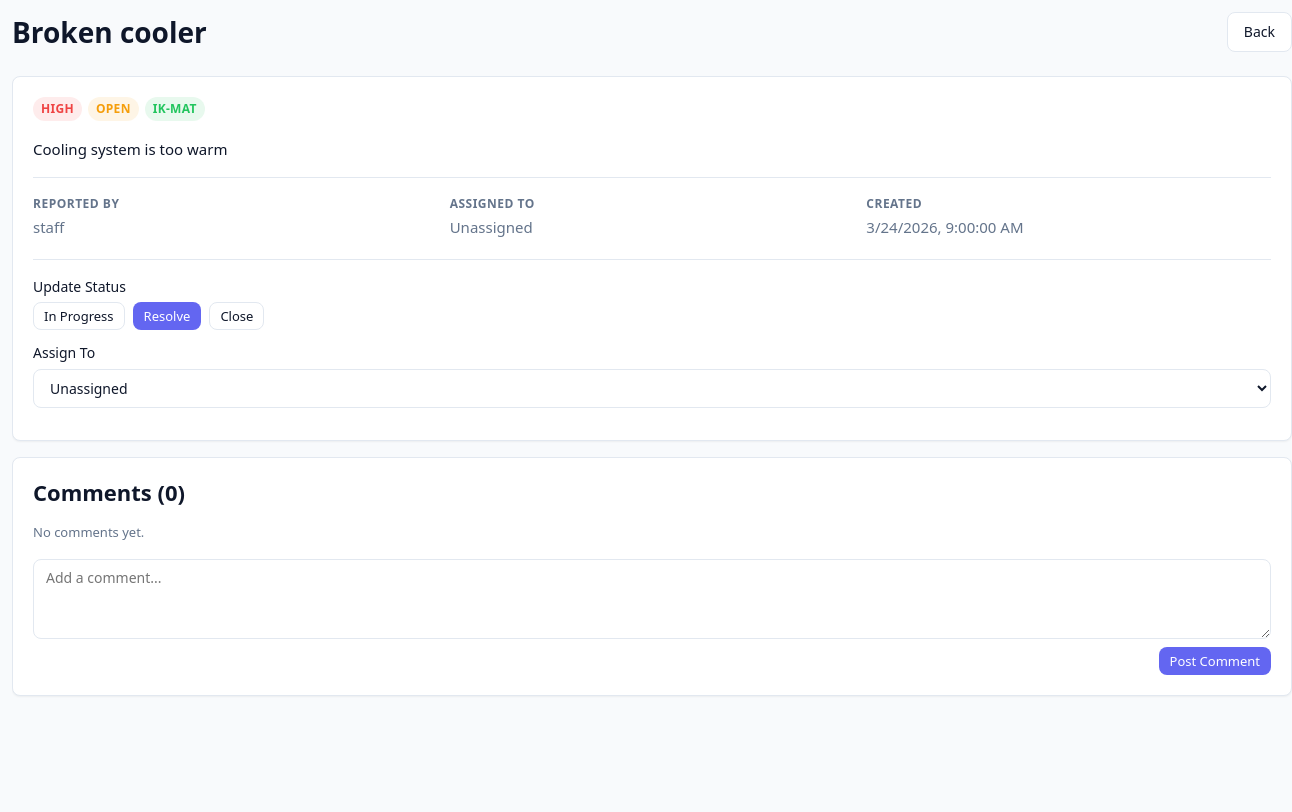
DeviationDetailView › loads a deviation, updates status, and posts a comment
Check: the heading "Broken cooler" is shown, box [12, 14, 207, 50]
Check: the text "Unassigned" is shown, box [450, 217, 533, 237]
Click the button "In Progress" at x=79, y=316, box [33, 302, 125, 330]
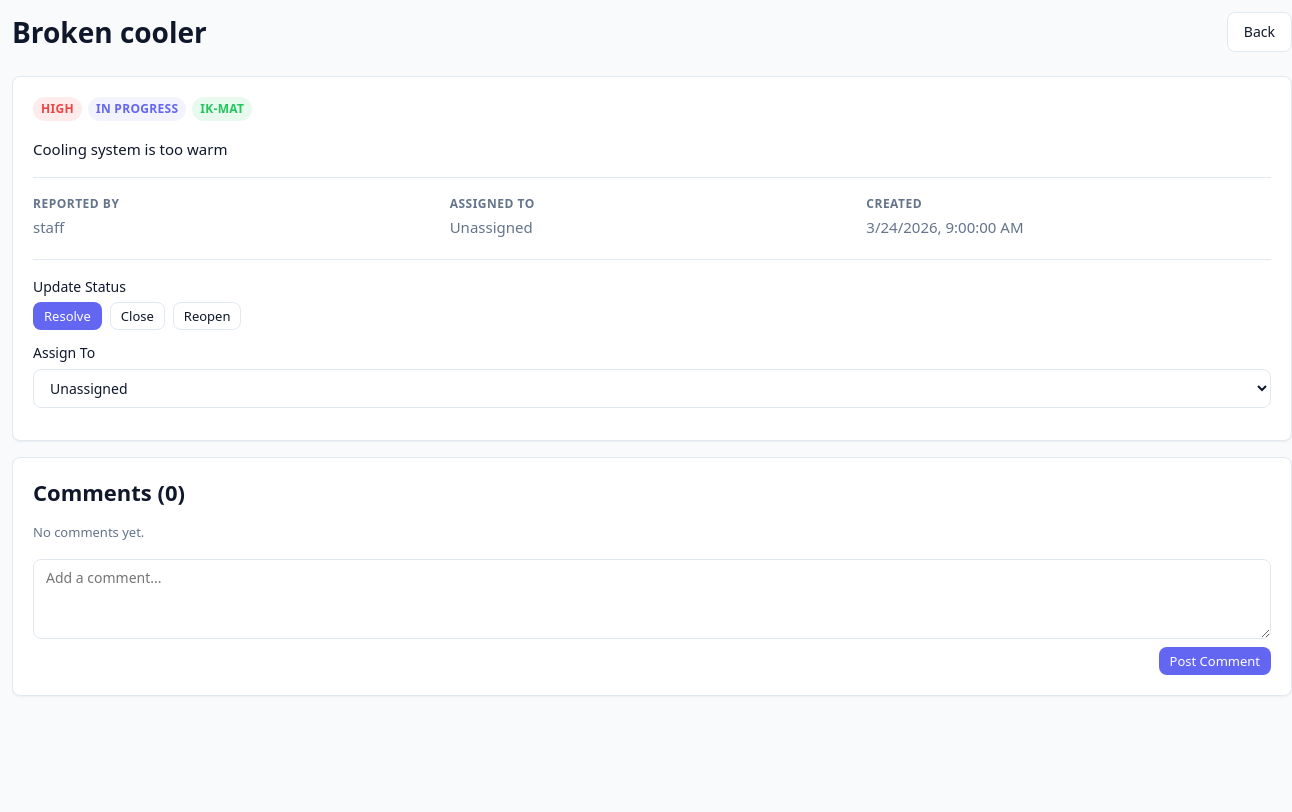
Check: the text "In Progress" is shown, box [88, 97, 186, 121]
Type "Technician booked." into the text box with placeholder "Add a comment..." at x=652, y=599, box [33, 559, 1271, 639]
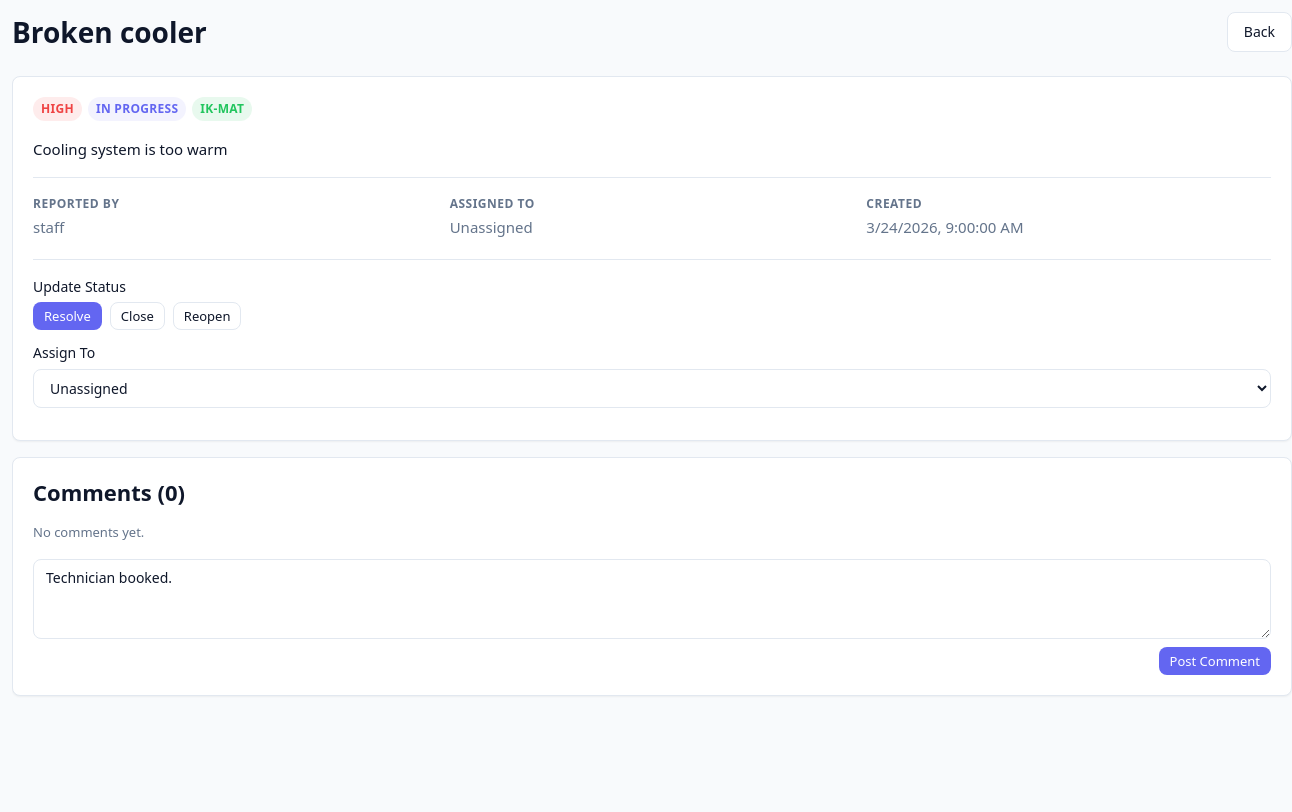
Click the button "Post Comment" at x=1215, y=661, box [1158, 647, 1271, 675]
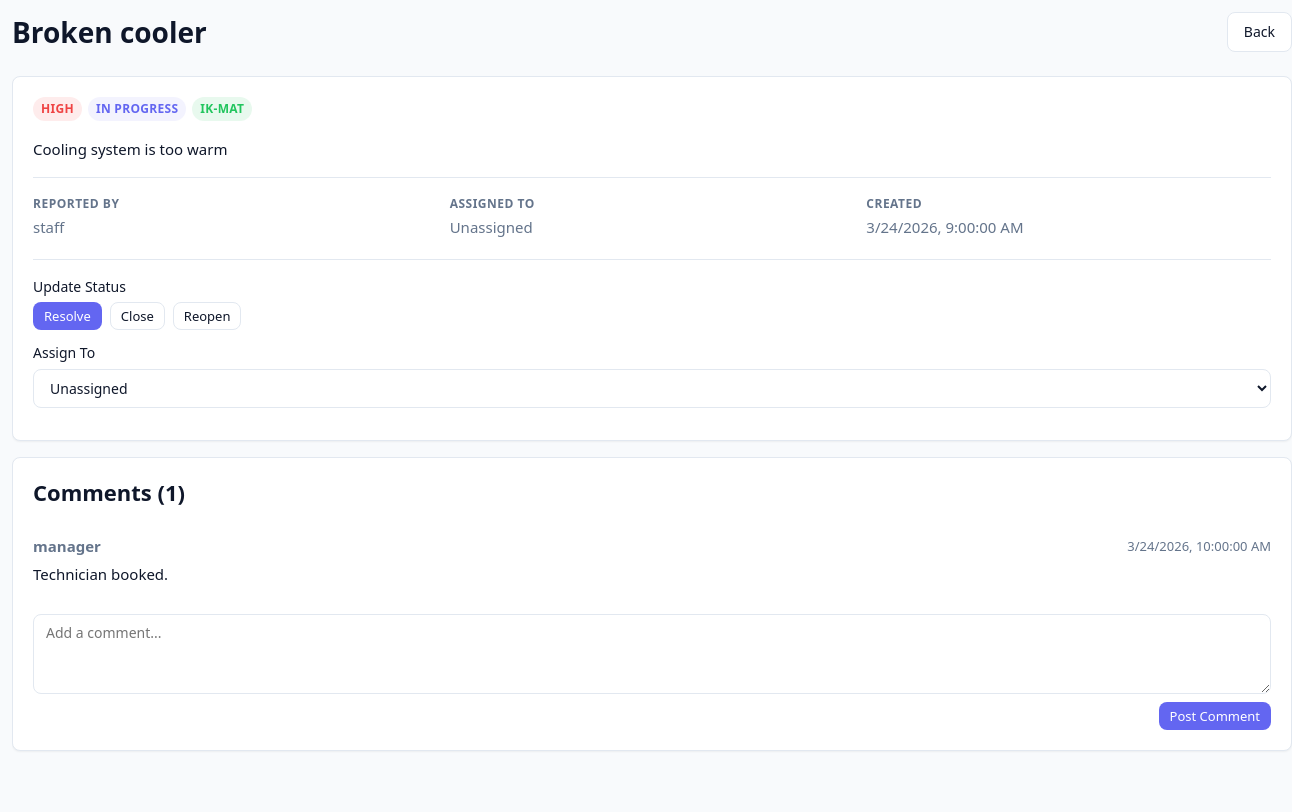
Check: the text "Technician booked." is shown, box [33, 564, 168, 584]
